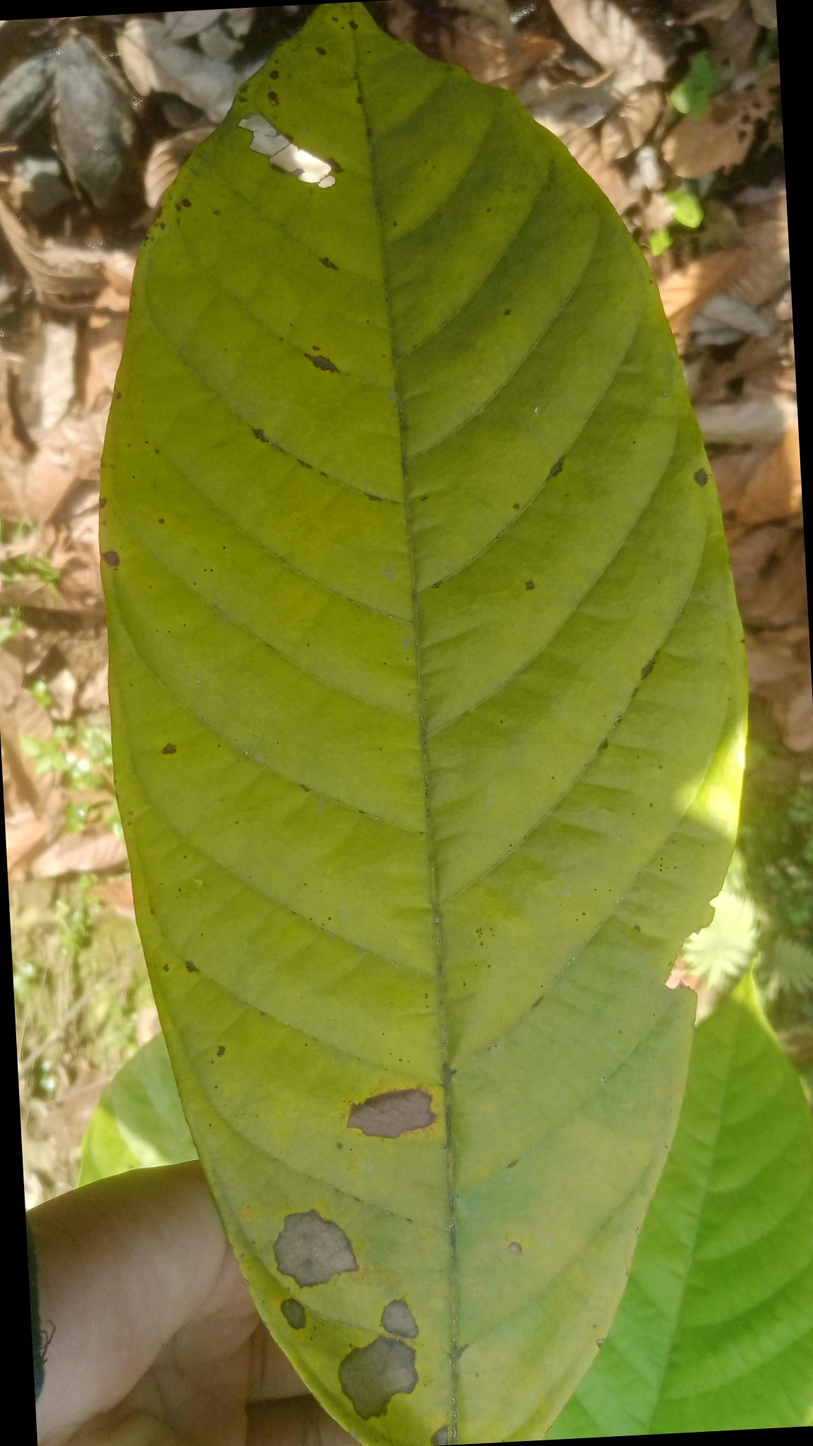Fosforo: (88, 2, 768, 1445)
